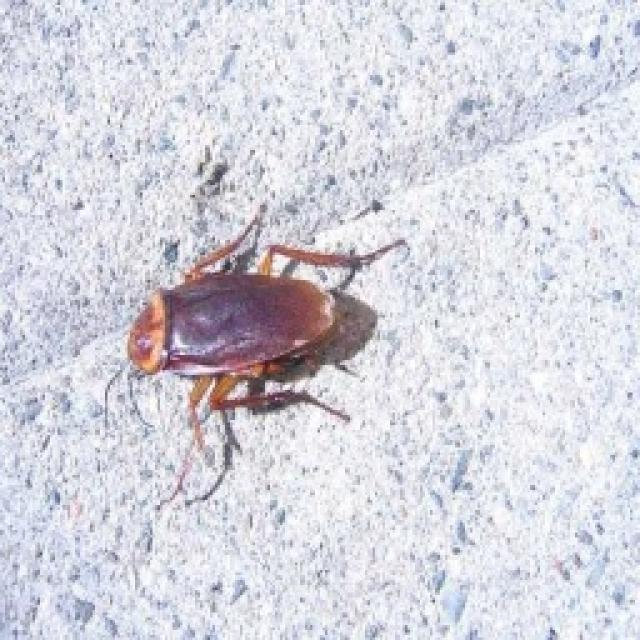cockroach: (114, 175, 413, 515)
